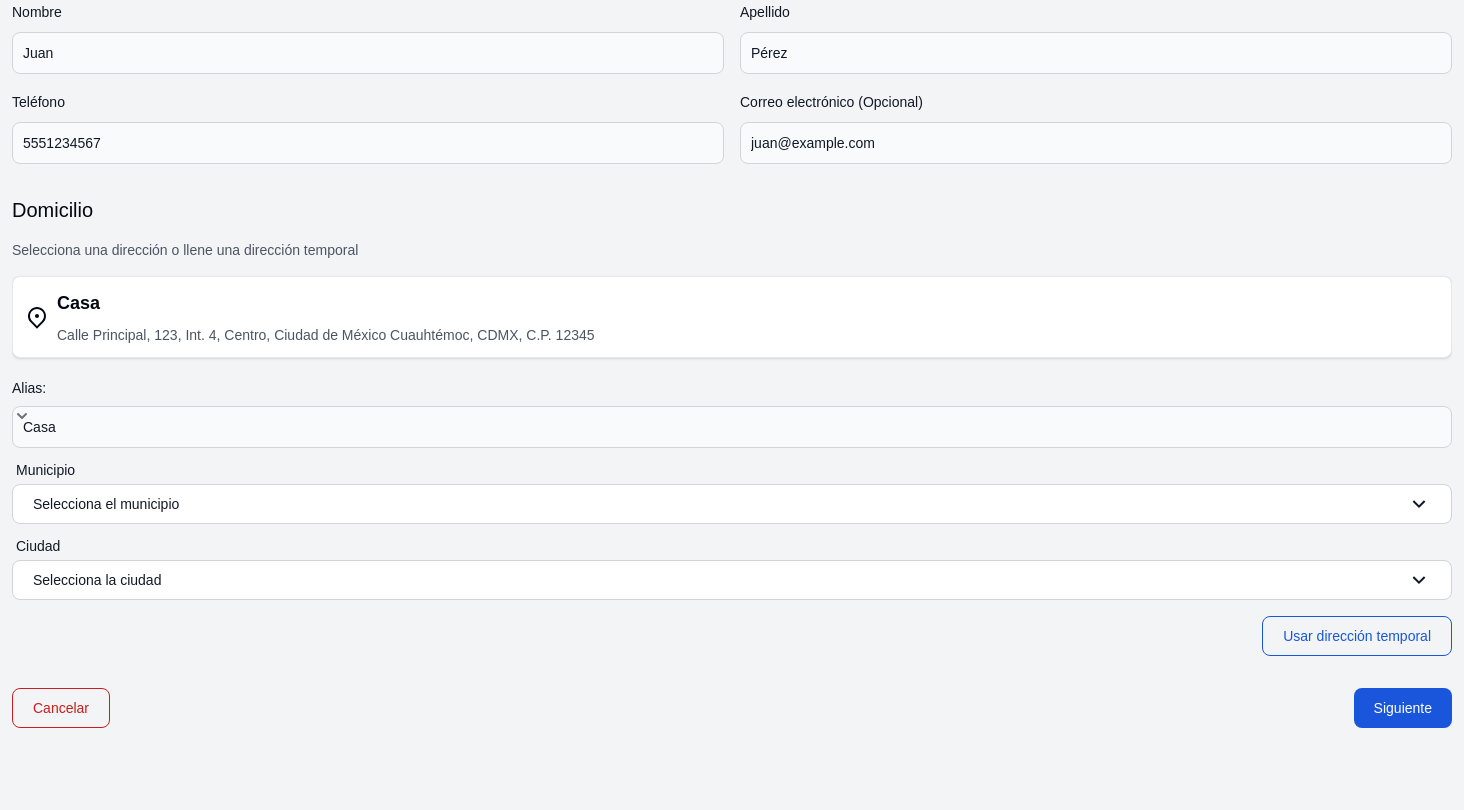
it: Feature: Add Address for Tone Guide Creation › Scenario: Submit form without town selected › Given an alias is selected but town is empty, When user submits the form, Then it should display a town error
Click the button "Siguiente": (1403, 708) [1354, 688, 1452, 728]
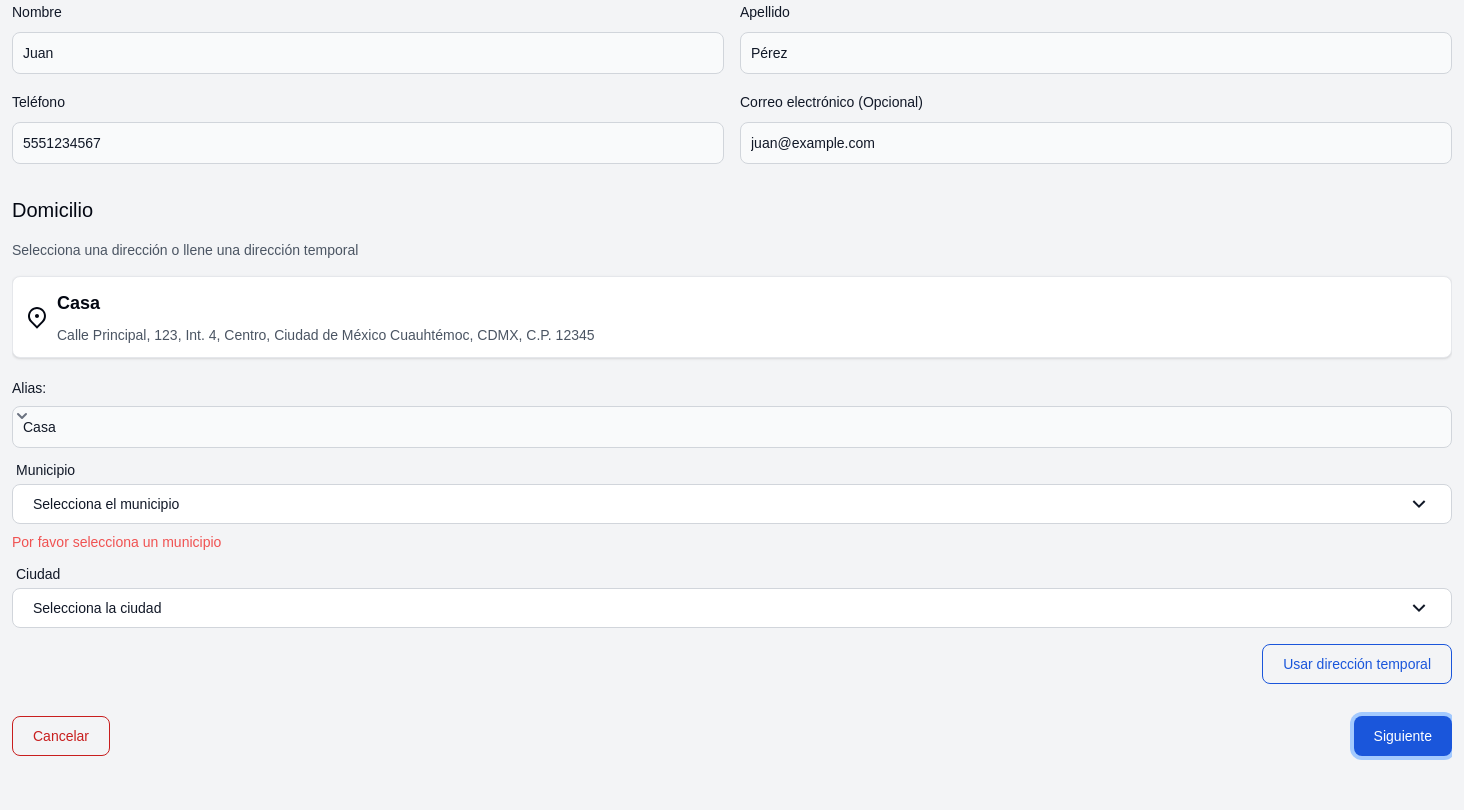
Expected: the text "Por favor selecciona un municipio" is shown, [12, 534, 221, 550]
